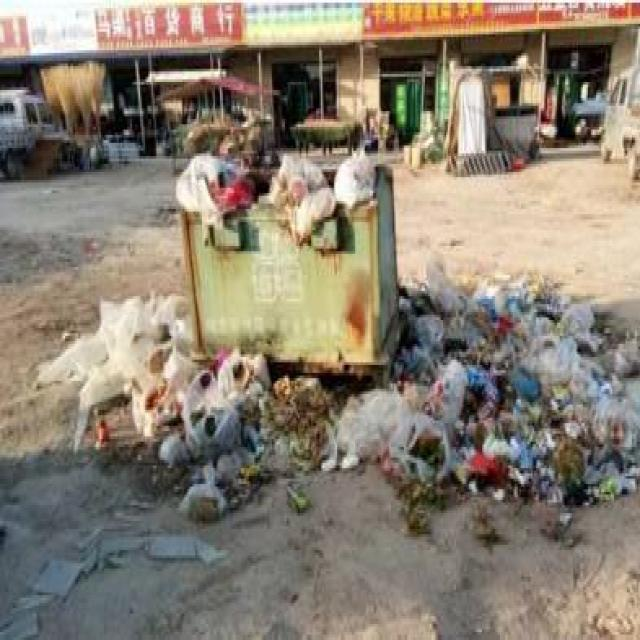garbage: (46, 264, 638, 526)
overflow: (174, 151, 394, 365)
